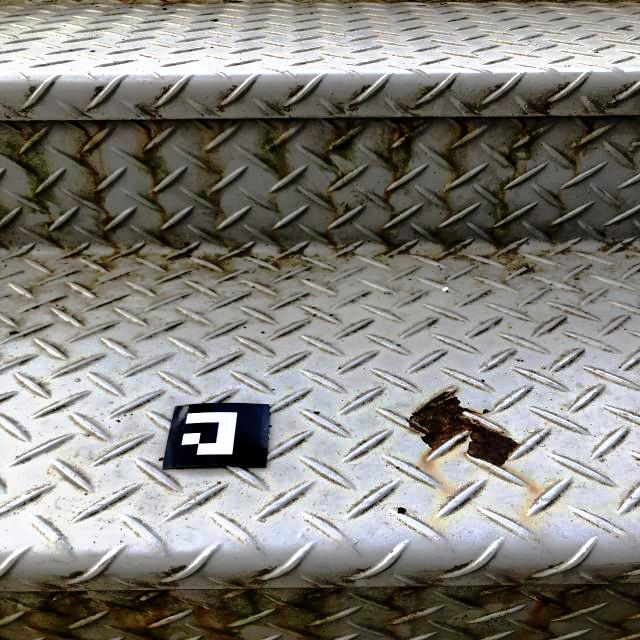Corrosion: (404, 389, 523, 467), (580, 116, 595, 136), (146, 615, 164, 627), (451, 118, 470, 128), (514, 116, 527, 128), (534, 596, 551, 604), (139, 595, 155, 603), (36, 607, 54, 614), (67, 591, 83, 598), (104, 603, 115, 609)
